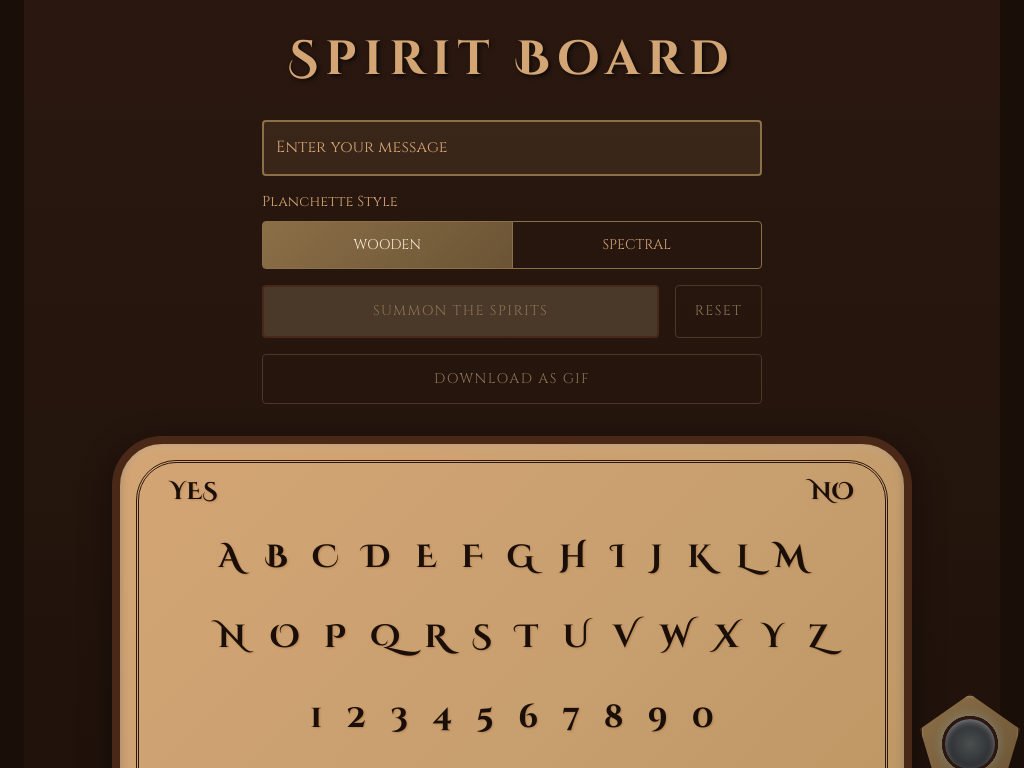
Ouija Page › reset button is enabled when message is entered
Type "Hello" into the field labelled "Enter your message".
click(512, 148); type("Hello")  # box [262,120,762,176]
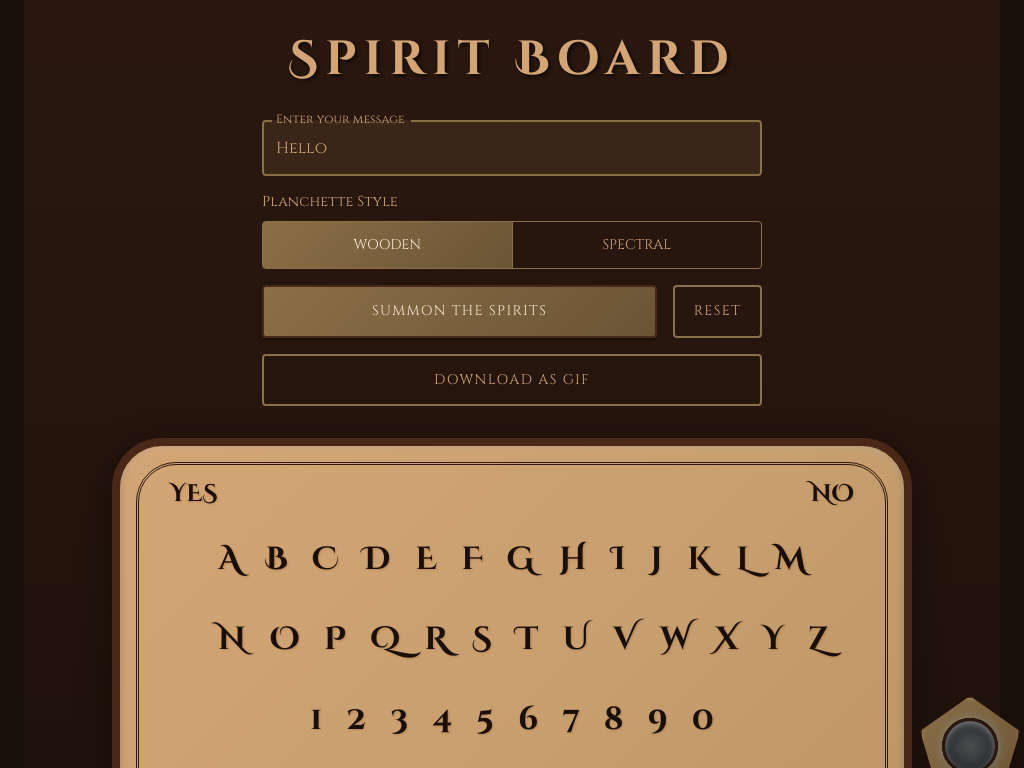
Expected: the button "Reset" is enabled, [673,285,762,338]
